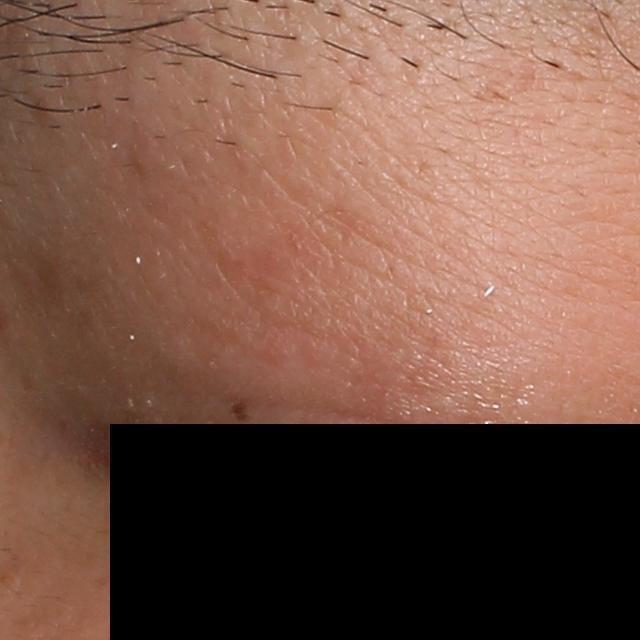nevus: (229, 398, 253, 427)
